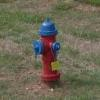Hydrant: (22, 13, 65, 94)
